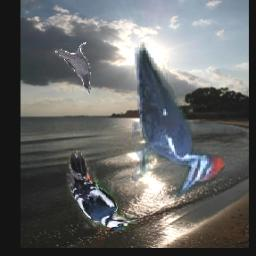Crow: (55, 42, 91, 94)
Woodpecker: (132, 42, 225, 203), (66, 152, 139, 231)
